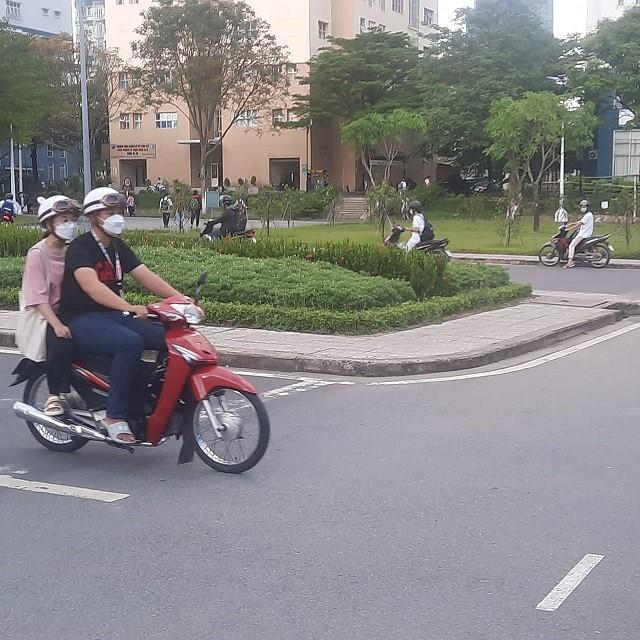Helmet: (82, 186, 130, 238), (36, 192, 80, 244)
